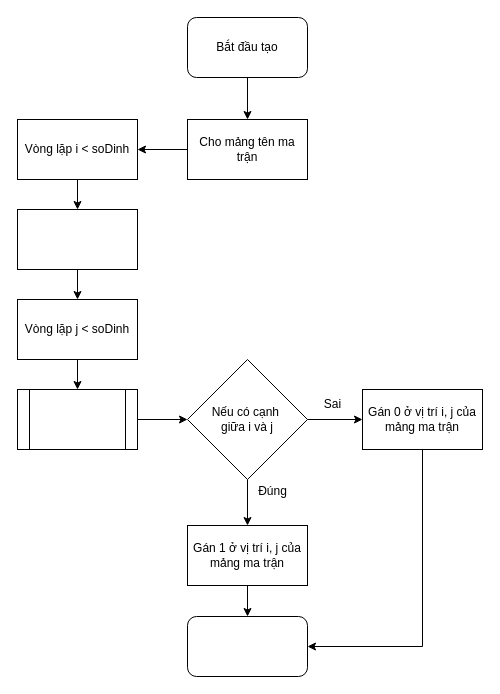
Some shapes in this 500 by 694 pixel diagram are drawn without their labels. The centre of each missing label's shape, as x and y in pixels:
coCanh: [77,419]
Mỗi lần lặp của i sẽ tạo thêm mảng. maTran[i] = []: [77,239]
Trả về mảng ma trận: [247,646]
